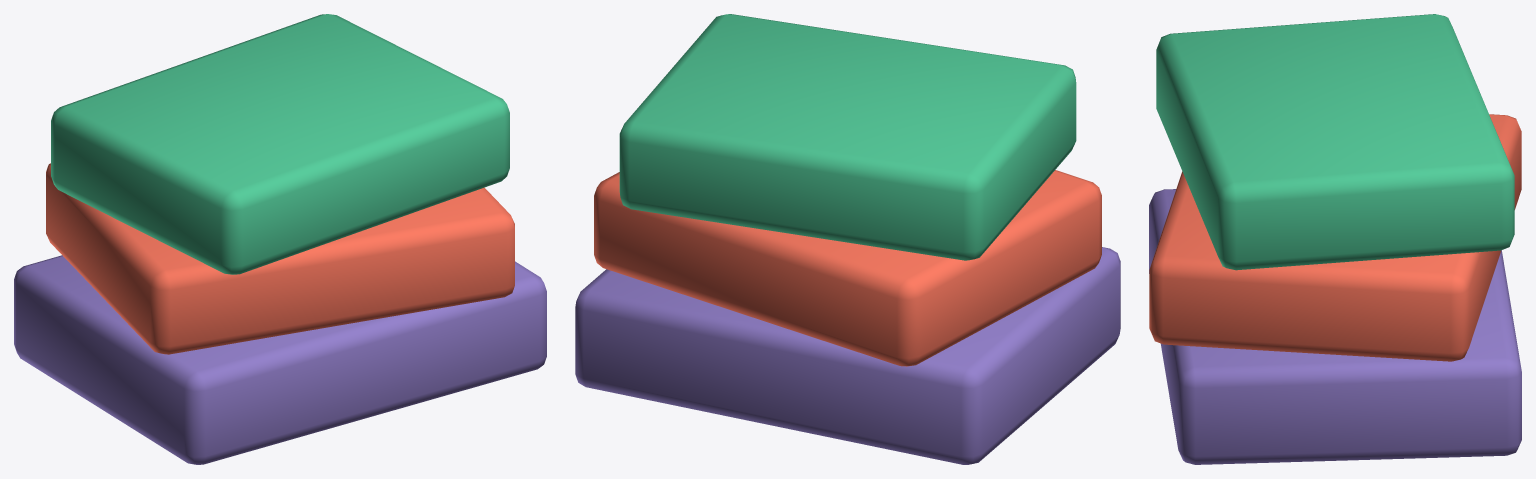
File: Decor_BookStack.fbx
3 renders of one model, left to right at view 1: azimuth 30°, elevation 25°; view 2: azimuth 150°, elevation 25°; view 3: azimuth 270°, elevation 25°, orthographic. The views are drawn at different scales.
Parts seen in each view (by area): view 1: Book_3, Book_1, Book_2; view 2: Book_3, Book_1, Book_2; view 3: Book_3, Book_1, Book_2.
Boxes of the visible parts, x1,y1,x2,y2 form: Book_3: [51, 14, 509, 274]; Book_1: [14, 255, 546, 464]; Book_2: [46, 163, 514, 354]; Book_3: [619, 14, 1076, 260]; Book_1: [575, 247, 1120, 464]; Book_2: [594, 170, 1101, 366]; Book_3: [1156, 14, 1514, 270]; Book_1: [1149, 189, 1521, 464]; Book_2: [1149, 114, 1521, 361].
Size of the model in its own units: 4.39 by 2.8 by 3.46.
